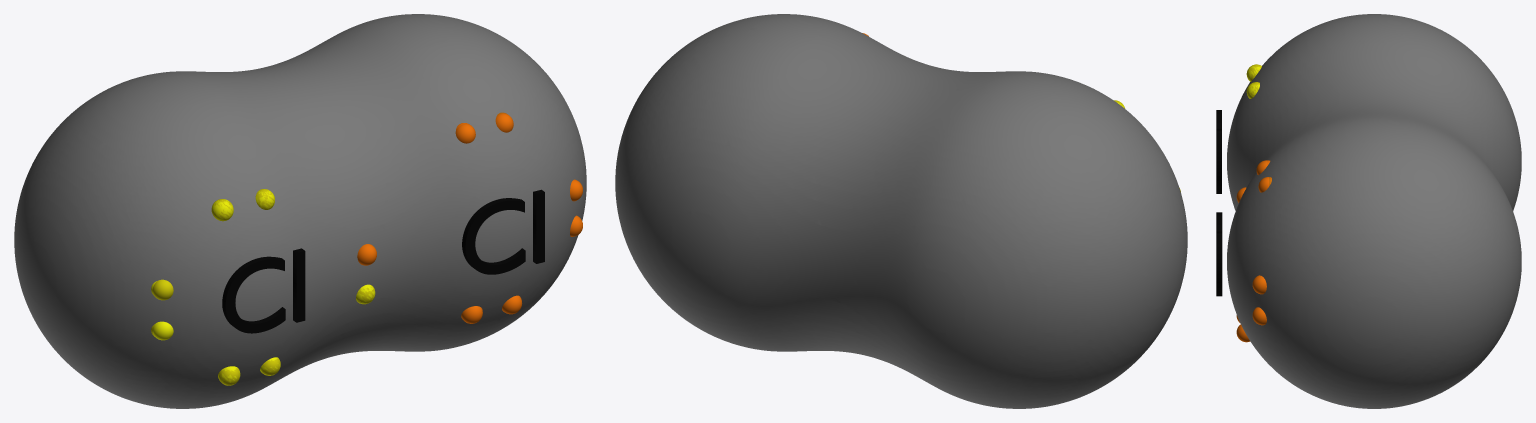
3 views of the same model, side by side, from view 1: azimuth 30°, elevation 25°; view 2: azimuth 150°, elevation 25°; view 3: azimuth 270°, elevation 25° (orthographic). The views are drawn at different scales.
Visible parts, largest first — view 1: Mball.002, Text, Text.001; view 2: Mball.002; view 3: Mball.002, Text.001, Text.
Part boxes in pixels (bbox=[...]): Mball.002: bbox=[14, 14, 586, 408]; Text: bbox=[222, 248, 305, 333]; Text.001: bbox=[462, 189, 544, 274]; Mball.002: bbox=[615, 14, 1187, 408]; Mball.002: bbox=[1227, 14, 1521, 408]; Text.001: bbox=[1216, 212, 1222, 296]; Text: bbox=[1216, 110, 1221, 193].
Size of the model in its own units: 5.39 by 2.99 by 3.1.
